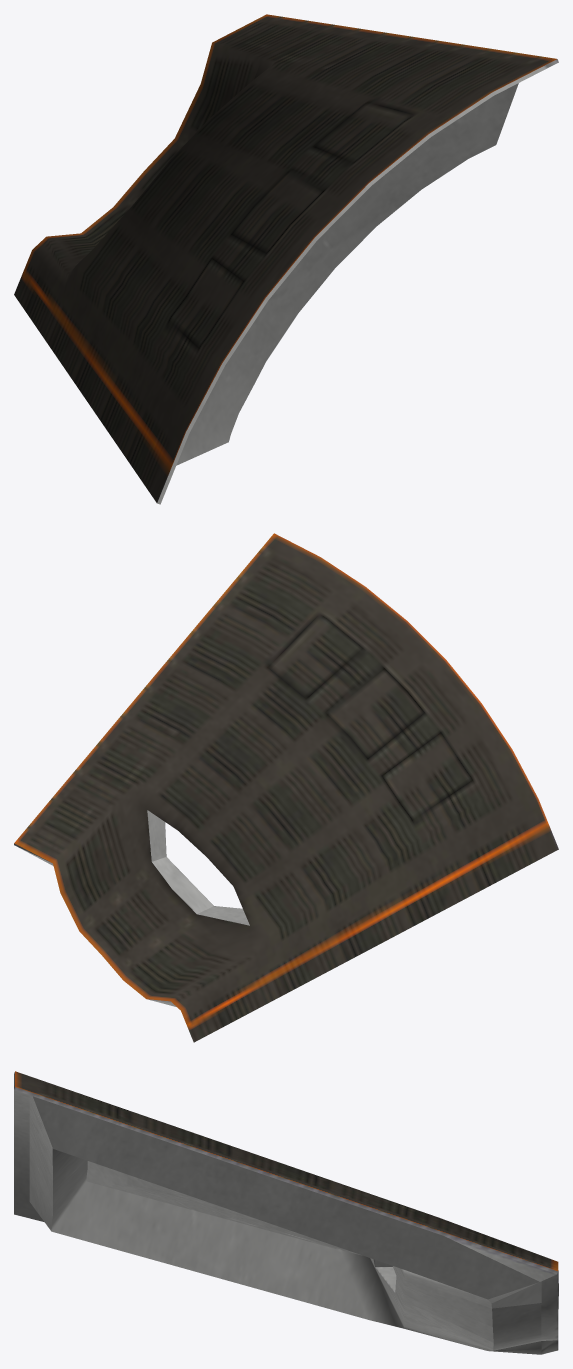
Rendered from capsule_door_left.fbx.
The picture shows the model from 3 angles, top to bottom: view 1: azimuth 30°, elevation 25°; view 2: azimuth 150°, elevation 25°; view 3: azimuth 270°, elevation 25°; orthographic projection. The views are drawn at different scales.
Visible parts, largest first — view 1: command_pilot_door; view 2: command_pilot_door; view 3: command_pilot_door.
Boxes of the visible parts, x1,y1,x2,y2 form: command_pilot_door: [14, 14, 558, 504]; command_pilot_door: [14, 533, 558, 1042]; command_pilot_door: [14, 1071, 558, 1354].
Size of the model in its own units: 0.9485 by 0.882 by 1.23.
